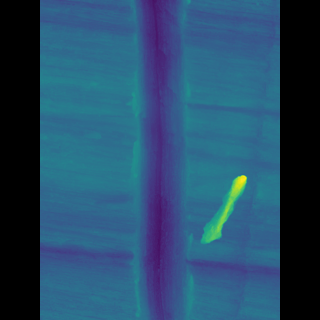Loch: (132, 0, 190, 320), (189, 171, 226, 248)
